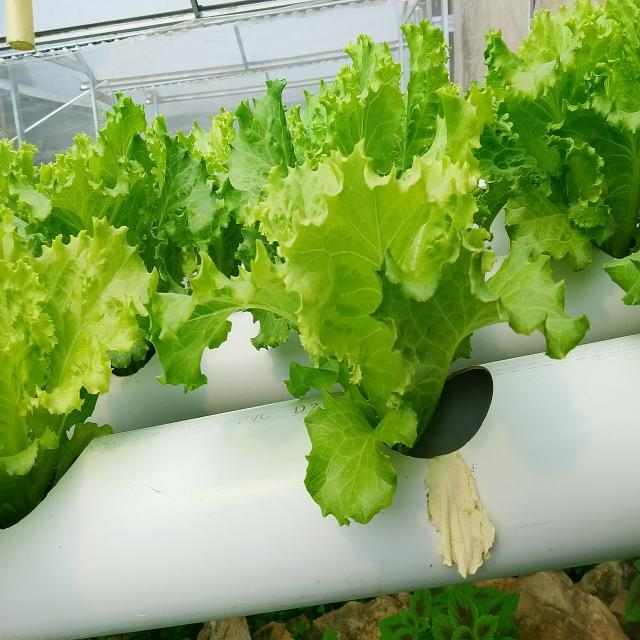Baby: (151, 117, 589, 525), (0, 208, 158, 506), (25, 93, 227, 280)
